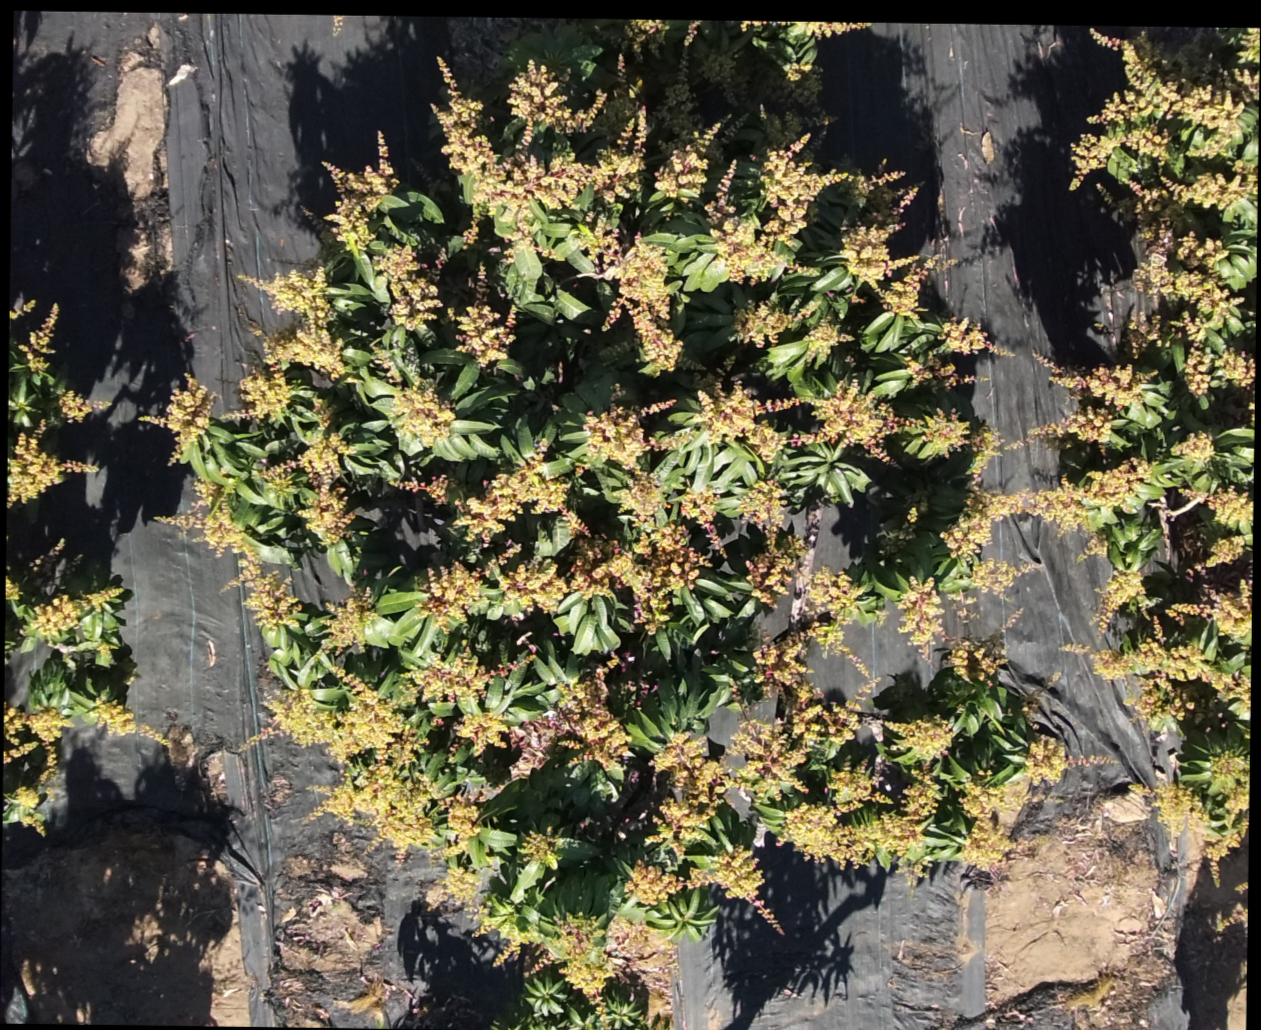flowers: (268, 641, 508, 849), (452, 444, 705, 630), (435, 61, 646, 247), (1072, 38, 1258, 180), (1093, 577, 1249, 729), (733, 628, 860, 801), (941, 459, 1149, 558), (162, 479, 302, 628), (703, 133, 831, 283), (774, 763, 937, 865), (624, 843, 779, 940), (806, 379, 971, 461), (1154, 739, 1248, 878), (1134, 229, 1243, 339), (453, 444, 569, 545), (603, 235, 682, 374), (261, 431, 355, 545), (260, 265, 346, 379), (434, 57, 497, 209), (322, 131, 397, 253), (1129, 159, 1257, 225), (652, 731, 724, 846), (695, 381, 792, 462), (558, 664, 630, 770), (507, 61, 604, 134), (6, 431, 95, 507), (582, 398, 676, 468), (140, 375, 211, 464), (452, 269, 515, 367), (411, 647, 518, 702), (376, 243, 441, 330), (654, 123, 720, 199), (31, 586, 124, 640), (230, 557, 301, 629), (422, 560, 493, 630), (1167, 578, 1251, 636), (881, 253, 956, 316), (1025, 732, 1114, 785), (745, 531, 803, 607), (393, 378, 453, 446), (1050, 364, 1143, 408), (3, 702, 67, 764), (895, 579, 942, 660), (1182, 346, 1254, 397), (703, 159, 734, 276), (1129, 676, 1192, 732), (840, 223, 895, 287), (960, 777, 1048, 816), (1026, 406, 1112, 443), (808, 566, 862, 624), (325, 587, 377, 648), (1096, 570, 1143, 631), (238, 367, 292, 419), (732, 301, 794, 347), (958, 815, 1011, 869), (887, 716, 952, 759), (679, 487, 722, 551), (937, 317, 1010, 354), (21, 302, 58, 373), (620, 472, 665, 529), (947, 638, 1005, 682), (576, 204, 620, 261), (919, 409, 969, 458), (558, 956, 612, 1002), (904, 353, 974, 388), (971, 558, 1037, 595), (424, 867, 480, 910), (738, 478, 786, 526), (457, 713, 508, 755), (444, 794, 479, 855), (805, 319, 851, 361), (1205, 486, 1252, 528), (57, 389, 110, 421), (395, 474, 449, 504), (12, 786, 45, 835), (969, 421, 999, 474), (518, 832, 561, 869), (92, 700, 136, 735), (878, 519, 914, 560), (625, 19, 668, 52), (780, 22, 870, 38), (1170, 431, 1214, 462), (897, 861, 930, 899), (1205, 534, 1244, 567), (522, 939, 553, 976), (1214, 902, 1247, 934), (1238, 28, 1259, 64), (1081, 533, 1107, 558), (312, 397, 333, 429), (462, 216, 479, 248), (8, 299, 34, 320), (788, 262, 821, 278), (5, 574, 20, 599), (739, 21, 778, 30), (1178, 486, 1199, 498), (850, 293, 866, 304)
